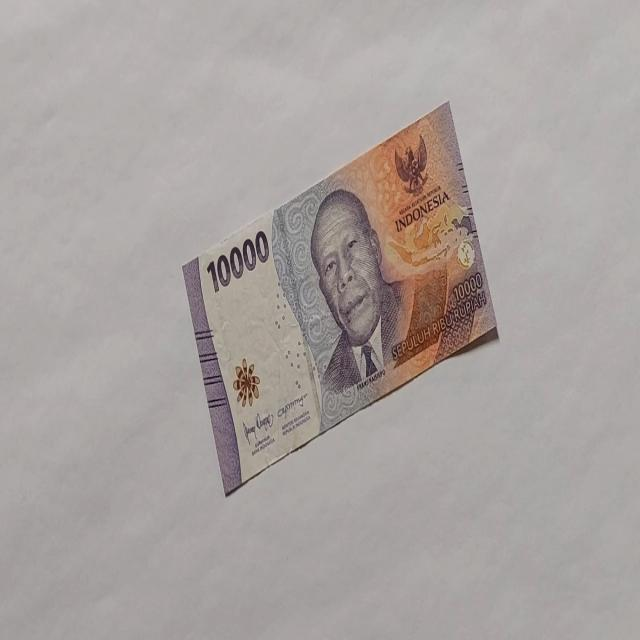sepuluh ribu rupiah: (180, 99, 500, 497), (309, 186, 405, 394), (204, 228, 270, 294)
